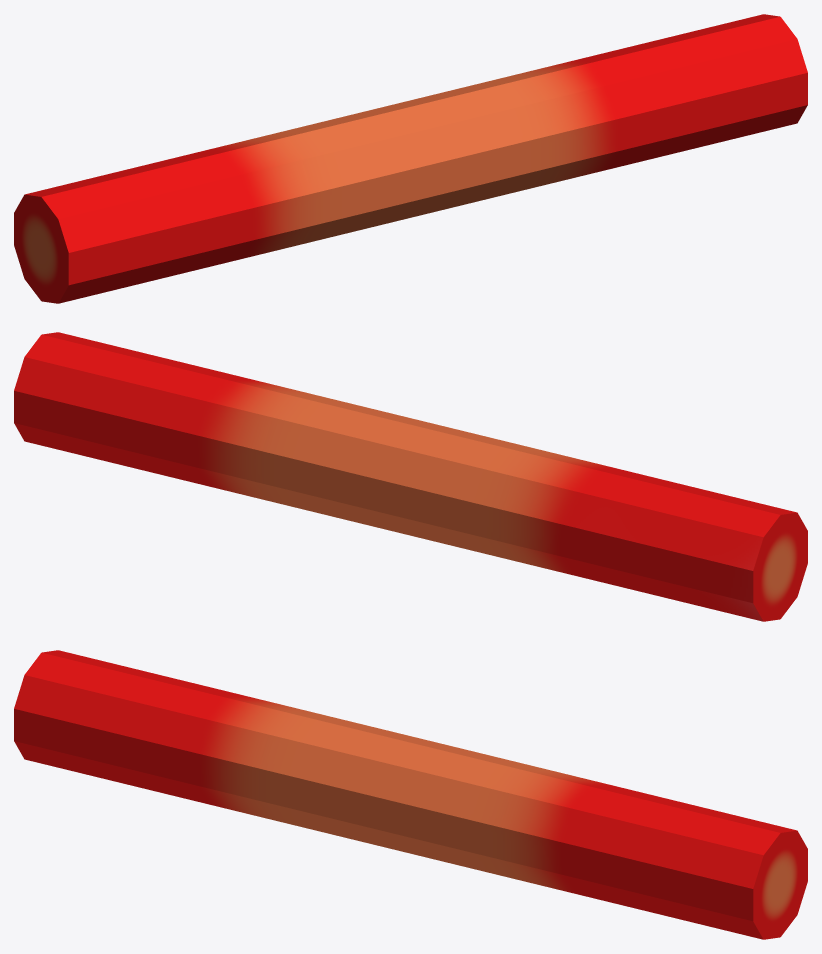
The picture shows the model from 3 angles, top to bottom: view 1: azimuth 30°, elevation 25°; view 2: azimuth 150°, elevation 25°; view 3: azimuth 330°, elevation 25°; orthographic projection.
Parts seen in each view (by area): view 1: pCylinder1; view 2: pCylinder1; view 3: pCylinder1.
Boxes of the visible parts, x1,y1,x2,y2 form: pCylinder1: (14, 14, 807, 303); pCylinder1: (14, 332, 807, 621); pCylinder1: (14, 650, 807, 939).
Bounding box in the file's own units: 18.27 × 2.47 × 2.35.
1 material, 1 textured.
